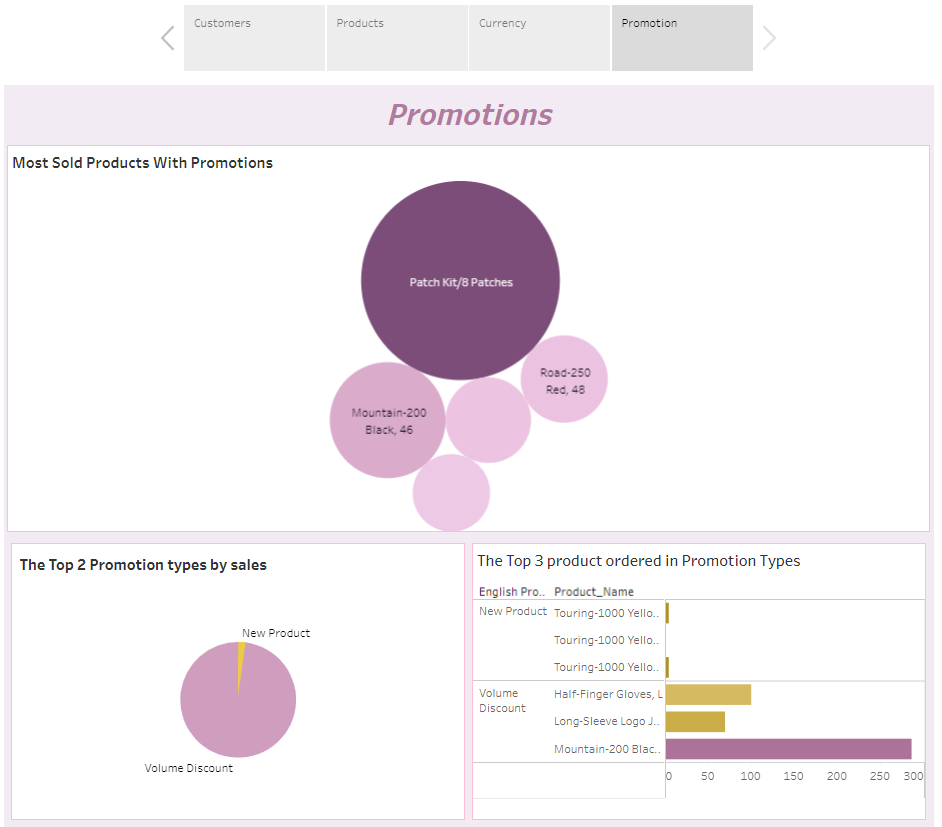

Layout of this report page (visuals, bound fields, positions):
{"tool":"tableau","page":{"name":"Dashboard 3","canvas":[1000,800],"ordinal":3},"visuals":[{"type":"text","box":[8,8,984,62]},{"type":"worksheet","title":"Sheet 10","mark":"Circle","box":[4,74,992,421]},{"type":"worksheet","title":"Sheet 9","mark":"Automatic","rows":["EnglishPromotionType","EnglishProductName"],"cols":["ProductKey (FactInternetSales)"],"box":[500,499,492,293]},{"type":"worksheet","title":"Sheet 8","mark":"Pie","box":[13,504,482,283]}]}

Visuals, with their boxes on the page's 1000x800 design canvas (x1, y1, x2, y2). These are canvas units, not pixel positions in the 942x827 screenshot, which may show the page scaled, cropped or inside an application window:
text: 8 8 992 70
"Sheet 10" worksheet (Circle marks): 4 74 996 495
"Sheet 9" worksheet: 500 499 992 792
"Sheet 8" worksheet (Pie marks): 13 504 495 787
